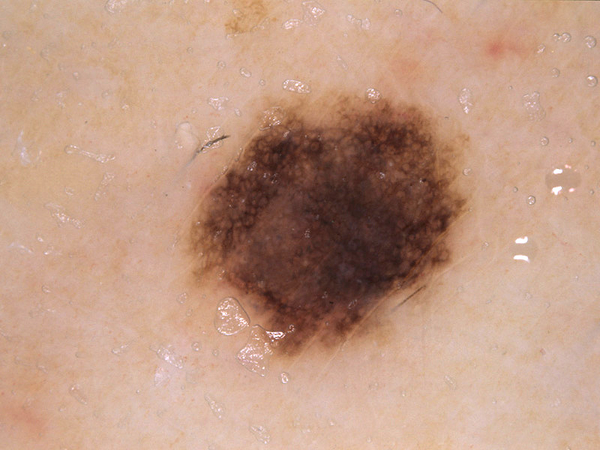Detected Lesion: (181, 76, 477, 367)
